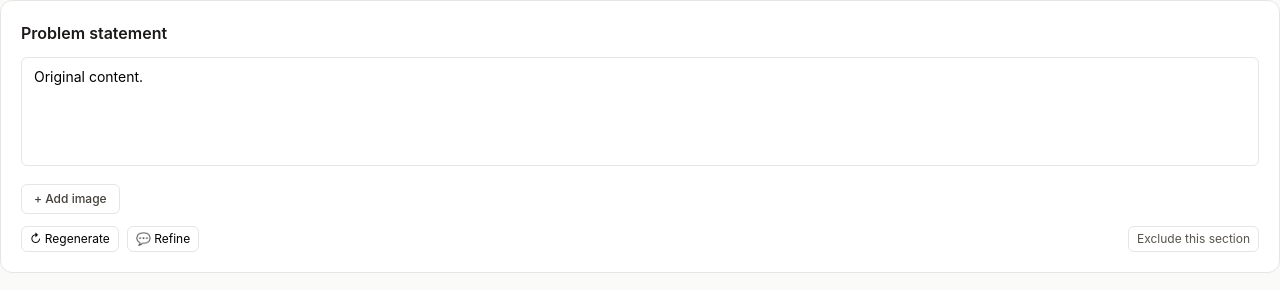
Test case: SectionBlock › regenerate button posts to the regenerate endpoint and updates the block
Click the button "↻ Regenerate" at (70, 239), box [21,226,119,252]
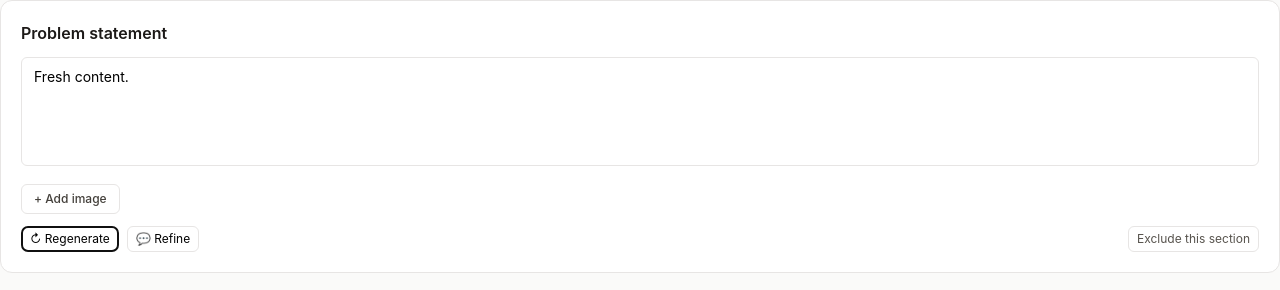
Expected: the text box showing "Fresh content." is shown, [21,57,1259,166]
